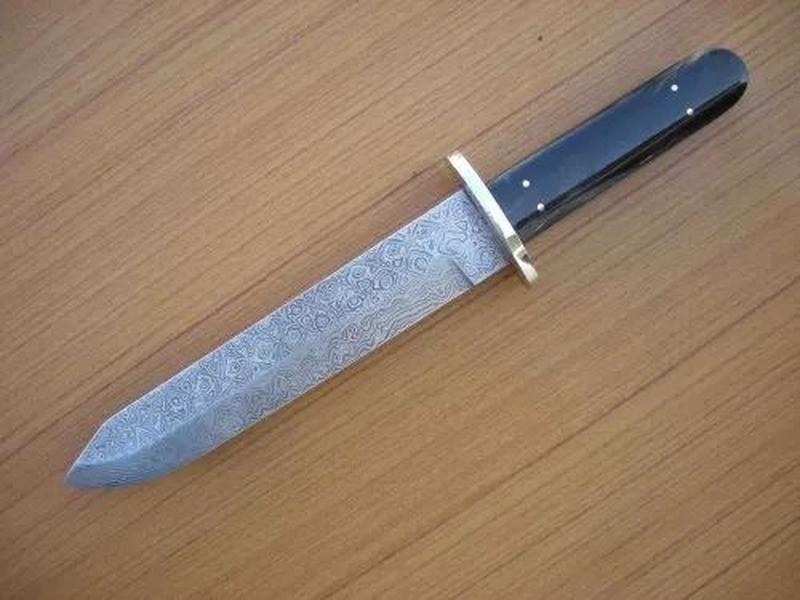KNIFE: (61, 41, 759, 497)
